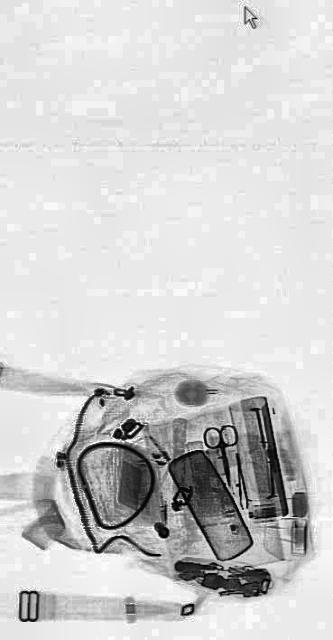Scissors: (203, 422, 240, 490)
